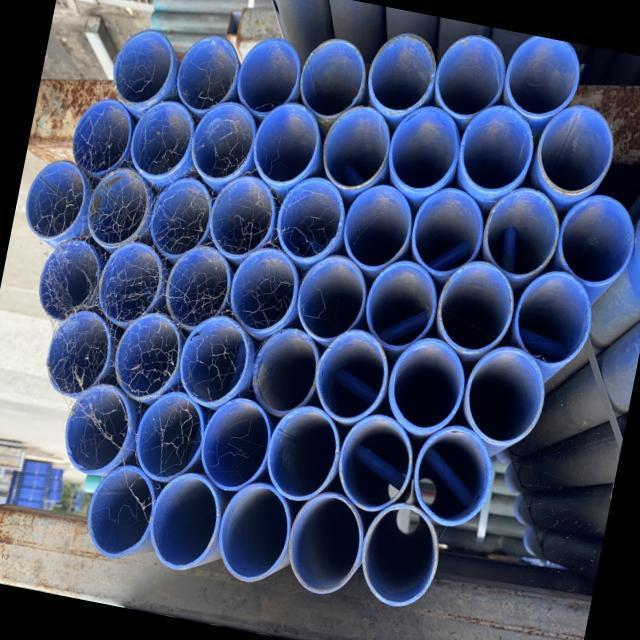pipe: (456, 342, 557, 451), (353, 496, 450, 609), (207, 471, 300, 587), (382, 326, 475, 438), (140, 462, 230, 577), (405, 421, 500, 529), (256, 396, 347, 508), (279, 485, 366, 602), (330, 404, 420, 515), (305, 323, 397, 427), (529, 95, 621, 199), (360, 250, 450, 355), (433, 253, 521, 358), (171, 306, 259, 409), (480, 184, 568, 287), (510, 265, 600, 365), (58, 381, 145, 484), (243, 318, 327, 422), (104, 301, 186, 405), (554, 188, 640, 287), (269, 169, 355, 268), (403, 185, 491, 280), (191, 392, 275, 490), (89, 234, 171, 332), (454, 101, 540, 194), (382, 103, 468, 196), (77, 156, 158, 254), (78, 456, 154, 559), (335, 180, 418, 274), (292, 31, 374, 125), (297, 248, 375, 345), (318, 97, 396, 194), (46, 301, 120, 403), (226, 243, 307, 335), (431, 28, 511, 121), (135, 385, 209, 485), (202, 173, 283, 263), (500, 32, 581, 122), (248, 100, 330, 188), (185, 95, 261, 188), (160, 243, 241, 329), (123, 94, 197, 188), (231, 28, 309, 117), (366, 24, 439, 114), (145, 171, 217, 261), (170, 27, 241, 115), (35, 234, 104, 323), (22, 157, 88, 240), (76, 95, 139, 179), (110, 28, 175, 104)
